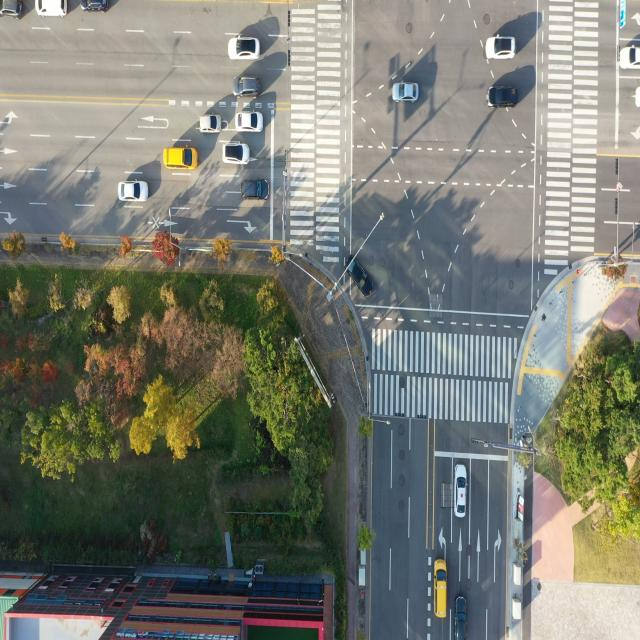car: (346, 256, 376, 298), (162, 145, 199, 171), (436, 560, 450, 623), (484, 34, 515, 62), (454, 465, 469, 521), (227, 35, 258, 62), (486, 85, 517, 110), (230, 74, 260, 99), (393, 82, 420, 106), (120, 180, 148, 203), (36, 0, 71, 18), (455, 595, 469, 639), (234, 111, 264, 131), (224, 142, 250, 165), (241, 179, 268, 201), (618, 47, 640, 73), (0, 0, 24, 20), (199, 114, 222, 131), (83, 0, 110, 13)
